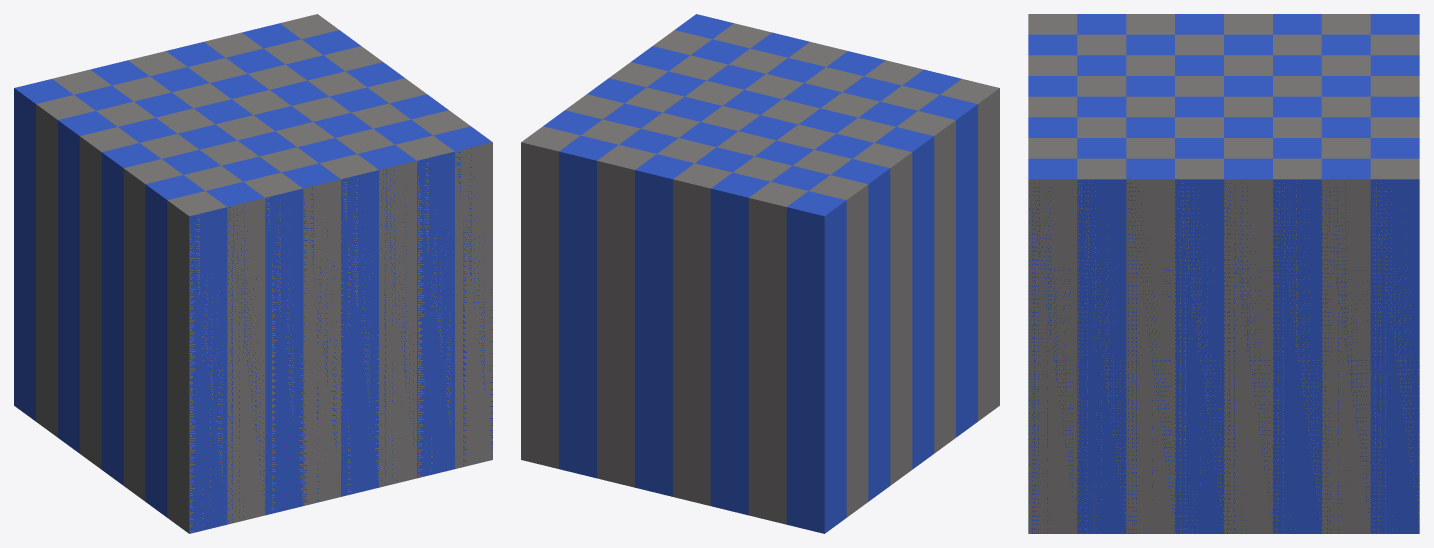
Rendered from asset.glb.
3 renders of one model, left to right at view 1: azimuth 30°, elevation 25°; view 2: azimuth 150°, elevation 25°; view 3: azimuth 270°, elevation 25°, orthographic. The views are drawn at different scales.
Parts seen in each view (by area): view 1: ProceduralAsset; view 2: ProceduralAsset; view 3: ProceduralAsset.
Part boxes in pixels (box(x1,y1,x2,y2)): ProceduralAsset: box(14, 14, 492, 533); ProceduralAsset: box(521, 14, 999, 533); ProceduralAsset: box(1028, 14, 1419, 533).
Bounding box in the file's own units: 2 × 2 × 2.
Materials: 1 (1 with a texture image).
